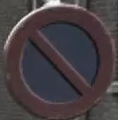No waiting: (6, 9, 108, 110)
